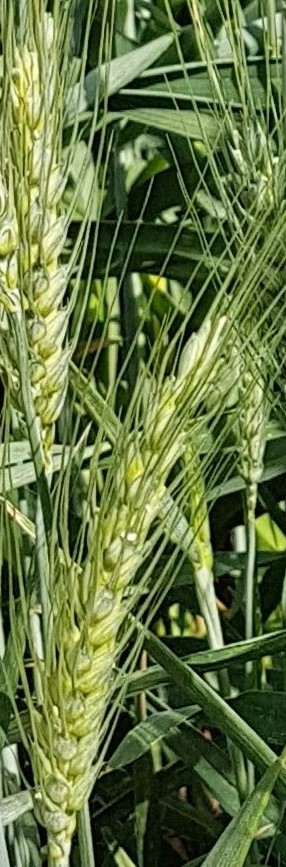Healthy Wheat: (26, 369, 223, 844)
